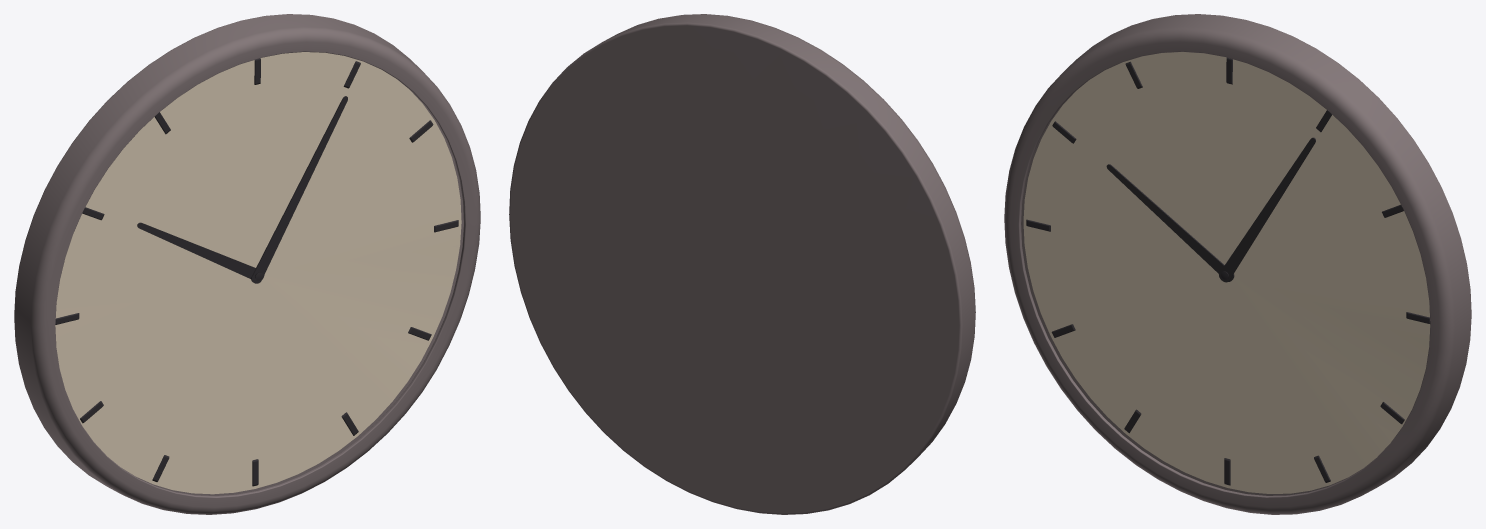
File: arunangshubanerjee-wall-clock-2041.glb
The picture shows the model from 3 angles, left to right: view 1: azimuth 30°, elevation 25°; view 2: azimuth 150°, elevation 25°; view 3: azimuth 330°, elevation 25°; orthographic projection.
Visible parts, largest first — view 1: stylized_face_lod0_geo, stylized_minutehand_lod0_geo, stylized_hourhand_lod0_geo; view 2: stylized_face_lod0_geo; view 3: stylized_face_lod0_geo, stylized_minutehand_lod0_geo, stylized_hourhand_lod0_geo.
Part boxes in pixels (left/top/right/bottom): stylized_face_lod0_geo: left=14, top=14, right=480, bottom=514; stylized_minutehand_lod0_geo: left=251, top=96, right=347, bottom=283; stylized_hourhand_lod0_geo: left=137, top=222, right=264, bottom=279; stylized_face_lod0_geo: left=509, top=14, right=975, bottom=514; stylized_face_lod0_geo: left=1004, top=14, right=1471, bottom=514; stylized_minutehand_lod0_geo: left=1219, top=137, right=1315, bottom=282; stylized_hourhand_lod0_geo: left=1106, top=164, right=1234, bottom=281.
Size of the model in its own units: 0.2876 by 0.2907 by 0.0229.
